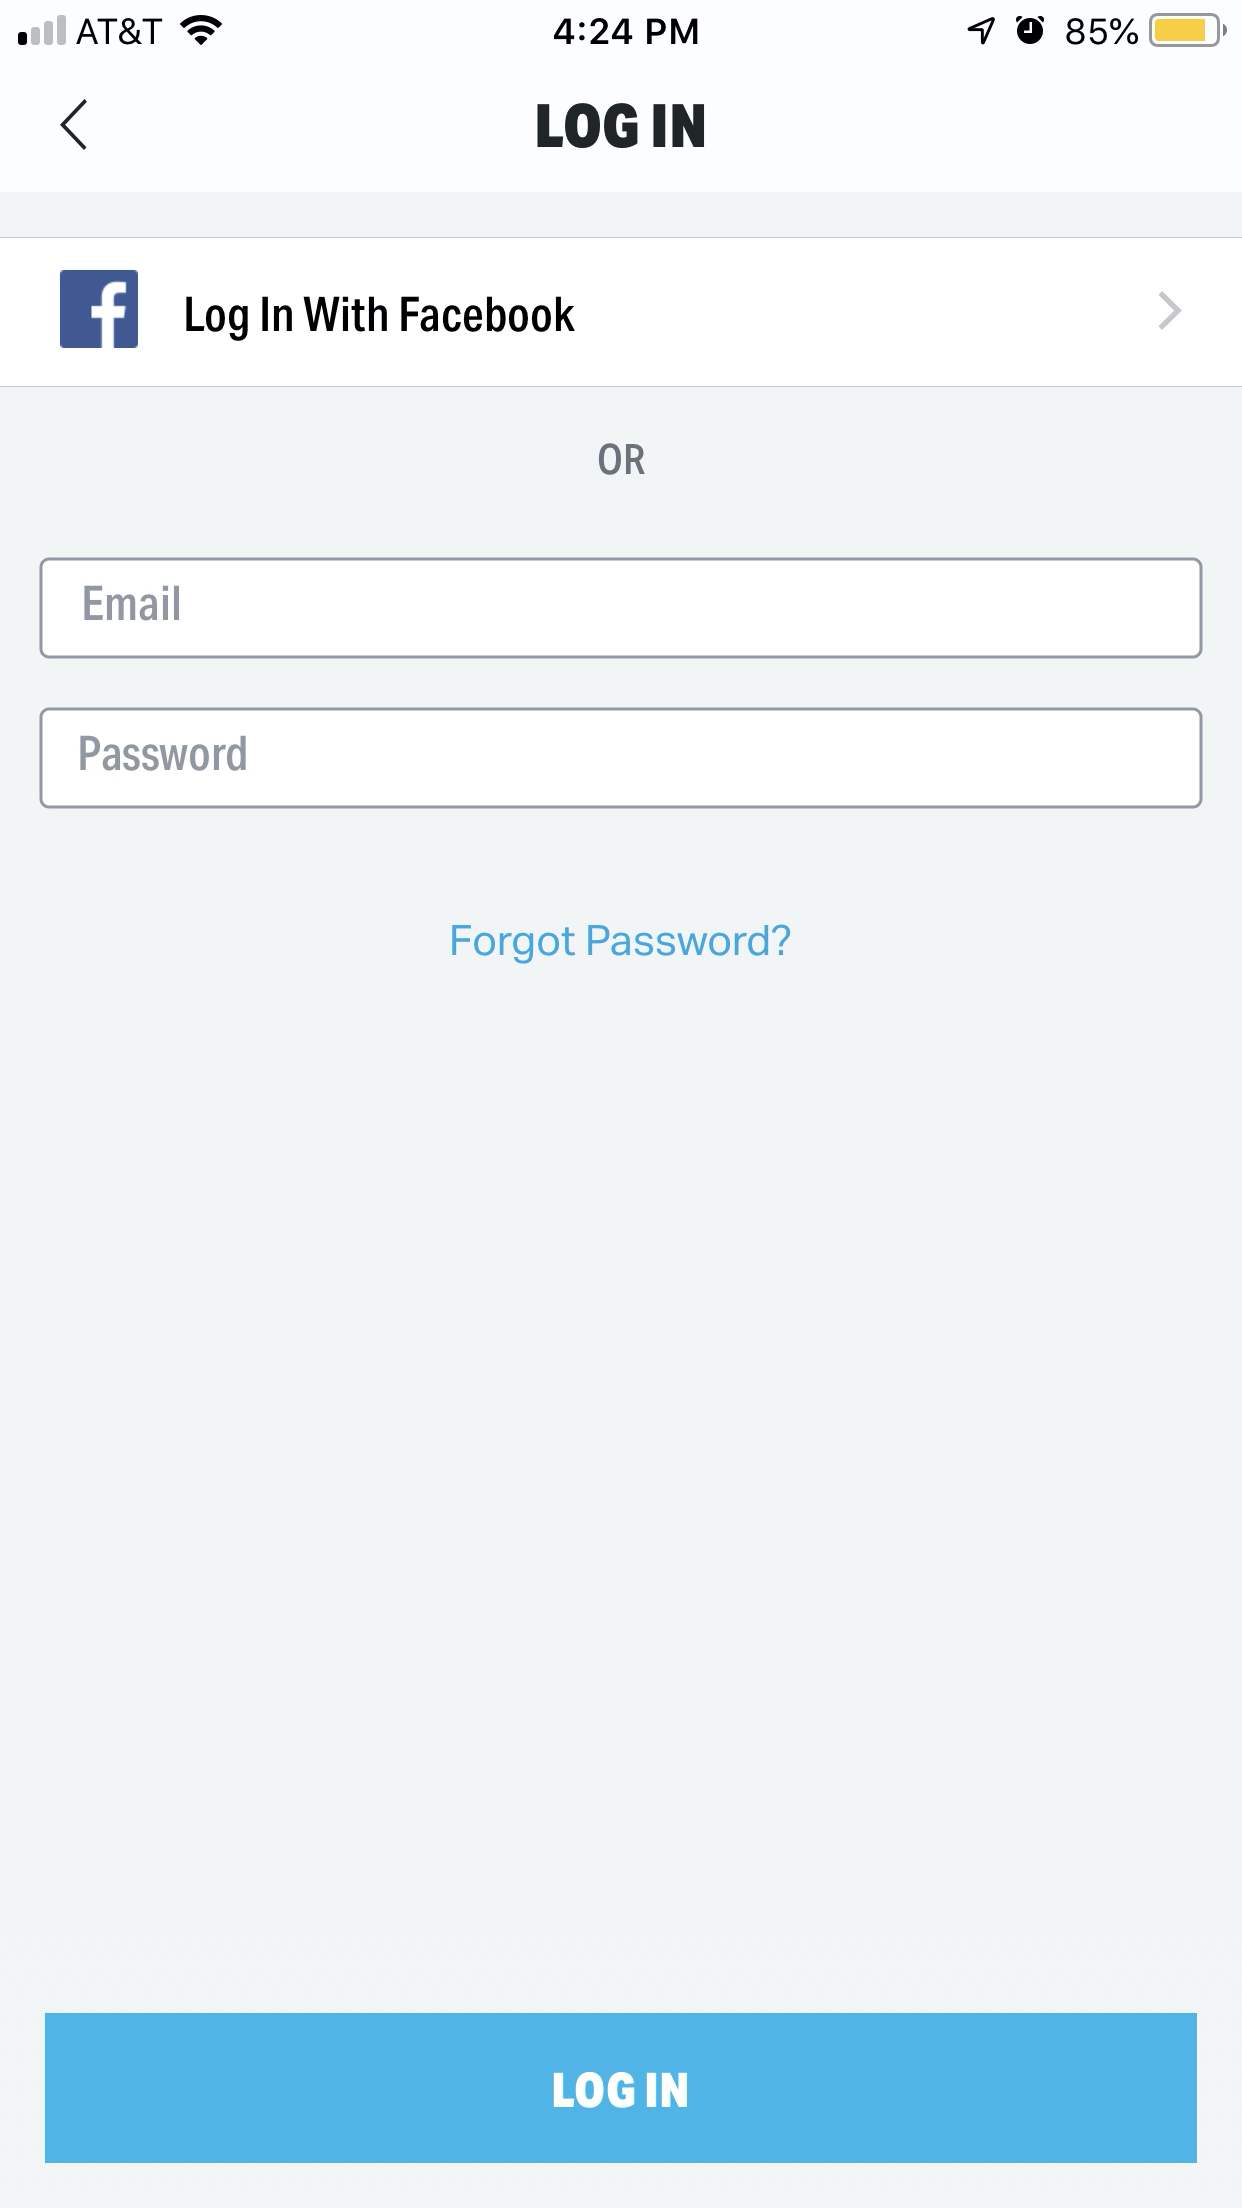EditText: (39, 557, 1204, 660), (39, 707, 1203, 810)
Icon: (61, 271, 140, 350), (61, 99, 89, 152), (1159, 291, 1181, 331)
Text: (185, 296, 576, 343), (452, 924, 792, 966), (538, 105, 705, 149), (80, 735, 247, 772), (83, 585, 182, 623), (599, 444, 645, 476)
TextButton: (45, 2012, 1198, 2163)
UpperTaskBar: (2, 2, 1242, 49)
